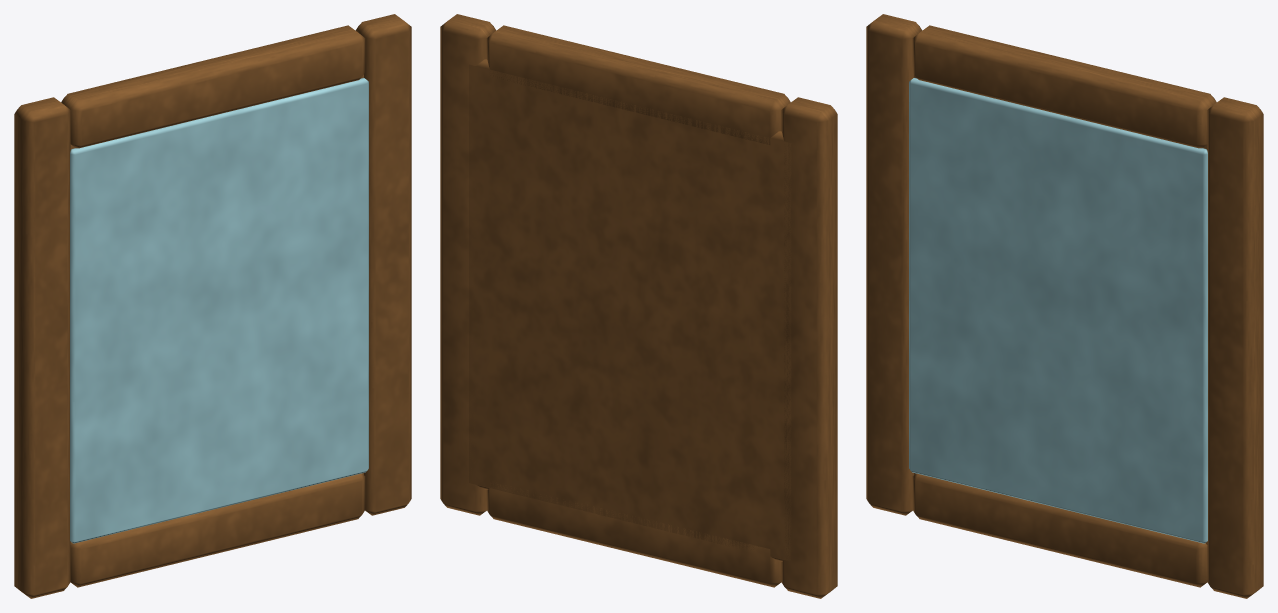
Rendered from Furn_WashMirror.fbx.
3 views of the same model, side by side, from view 1: azimuth 30°, elevation 25°; view 2: azimuth 150°, elevation 25°; view 3: azimuth 330°, elevation 25° (orthographic).
Parts seen in each view (by area): view 1: Furn_WashMirror_Mesh; view 2: Furn_WashMirror_Mesh; view 3: Furn_WashMirror_Mesh.
Part boxes in pixels (x1,y1,x2,y2): Furn_WashMirror_Mesh: (14, 14, 411, 598); Furn_WashMirror_Mesh: (440, 14, 837, 598); Furn_WashMirror_Mesh: (866, 14, 1263, 598).
Bounding box in the file's own units: 0.5 × 0.6 × 0.04.
Materials: 2 (2 with a texture image).
